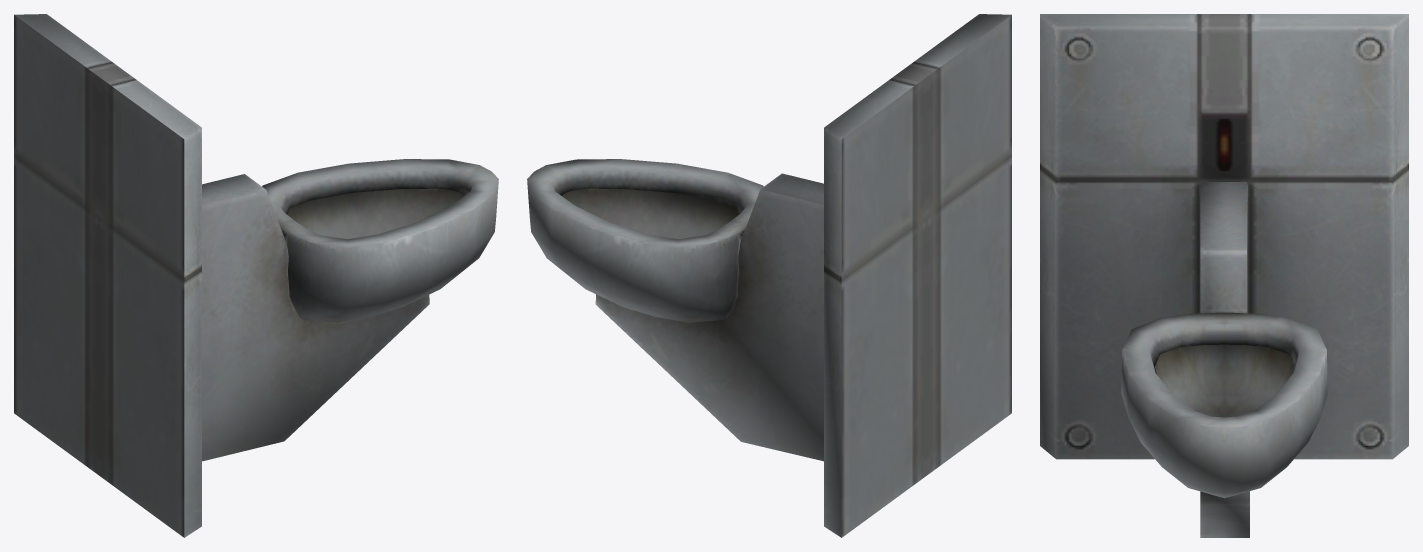
The model's file is Toilet01.FBX.
3 renders of one model, left to right at view 1: azimuth 30°, elevation 25°; view 2: azimuth 150°, elevation 25°; view 3: azimuth 270°, elevation 25°, orthographic. The views are drawn at different scales.
Visible parts, largest first — view 1: Toilet01; view 2: Toilet01; view 3: Toilet01.
Part boxes in pixels (x1=…): Toilet01: x1=14, y1=14, x2=498, y2=537; Toilet01: x1=527, y1=14, x2=1011, y2=537; Toilet01: x1=1040, y1=14, x2=1408, y2=537.
Size of the model in its own units: 0.8037 by 0.7801 by 0.6037.
